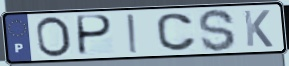C: (154, 12, 199, 52)
I: (125, 12, 141, 55)
K: (242, 8, 275, 48)
O: (34, 15, 74, 59)
P: (77, 14, 115, 58)
S: (197, 8, 238, 54)
